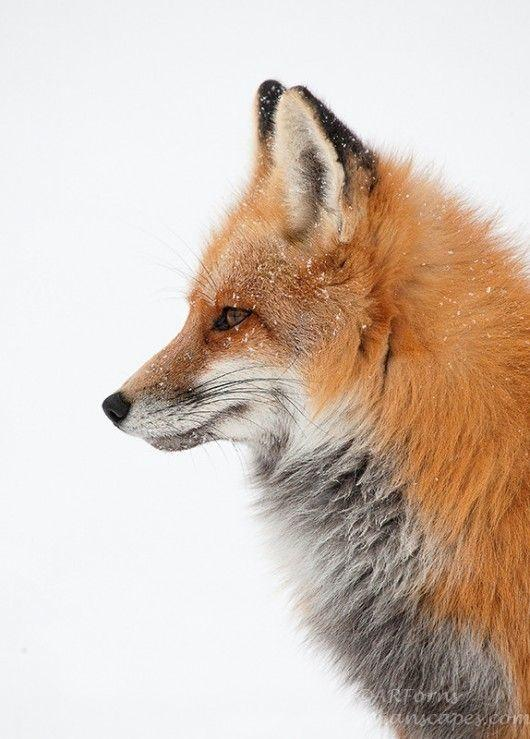fox: (90, 68, 530, 739)
